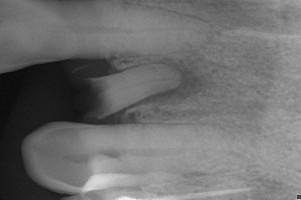Furcation Involvement: (127, 56, 207, 110)
